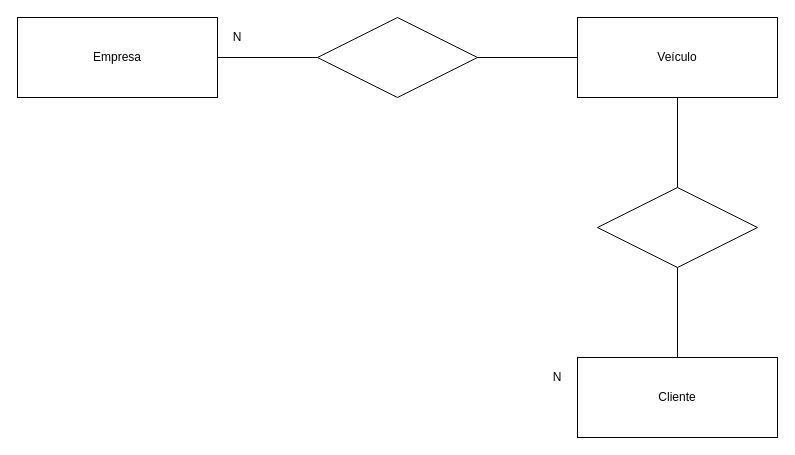
This 795x455 diagram has some shape labels left out. The box of each missing label's shape, as (x1, y1, x2, y2) in pixels:
(Aluga) Possui: (596, 186, 758, 268)
Possui: (316, 16, 478, 98)
